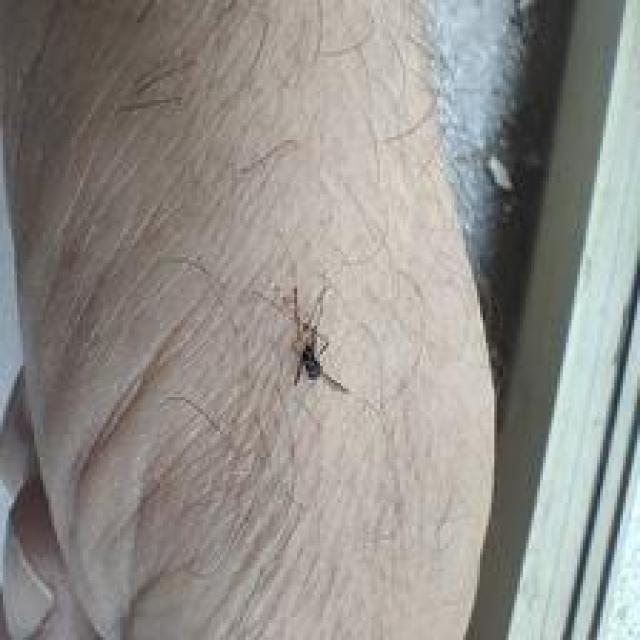Aedes albopictus: (256, 281, 350, 396)
